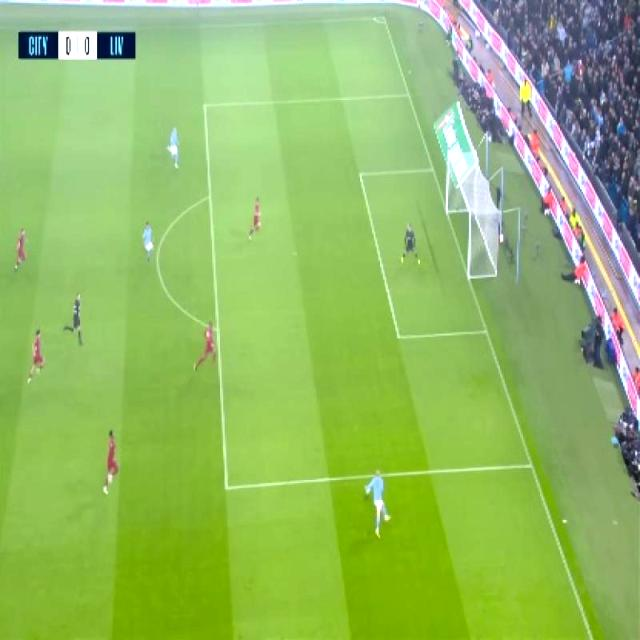bigarea_bottom_inner: (215, 472, 237, 498)
bigarea_bottom_outter: (524, 455, 538, 475)
bigarea_top_inner: (198, 94, 212, 114)
bigarea_top_outter: (400, 86, 414, 104)
bottom_arc_area_intersection: (210, 318, 225, 338)
corner: (372, 11, 391, 26)
smallarea_bottom_inner: (389, 322, 408, 348)
smallarea_bottom_outter: (476, 318, 494, 342)
smallarea_top_inner: (350, 163, 368, 183)
smallarea_top_outter: (423, 158, 440, 178)
top_arc_area_intersection: (201, 186, 216, 206)
